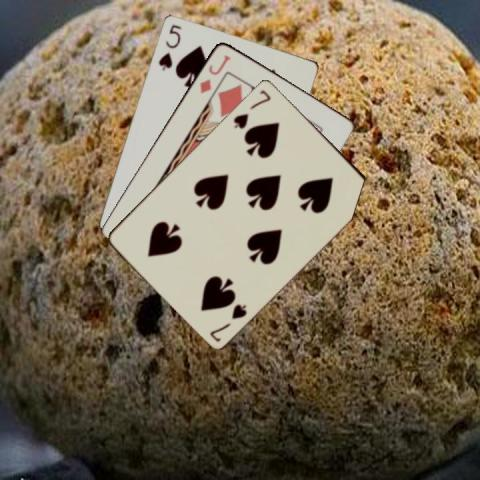5s: (155, 21, 183, 72)
7s: (230, 86, 272, 130), (206, 300, 248, 343)
Jd: (196, 51, 232, 95)
